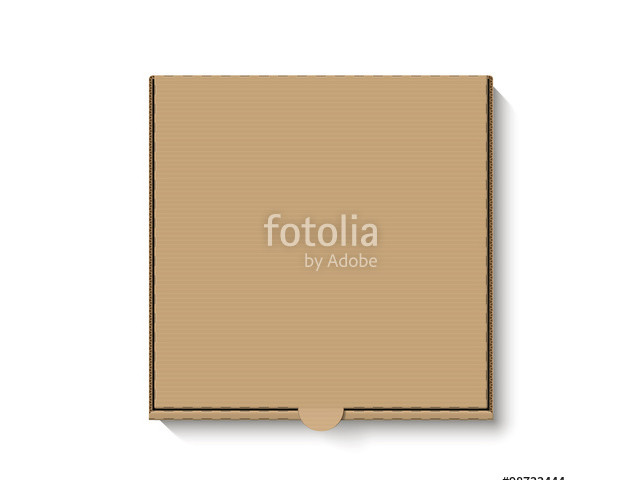cardboard: (148, 76, 493, 422)
